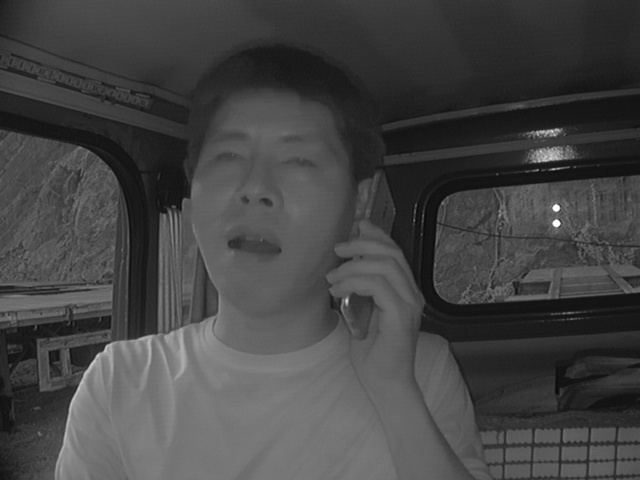hand: (327, 228, 427, 387)
